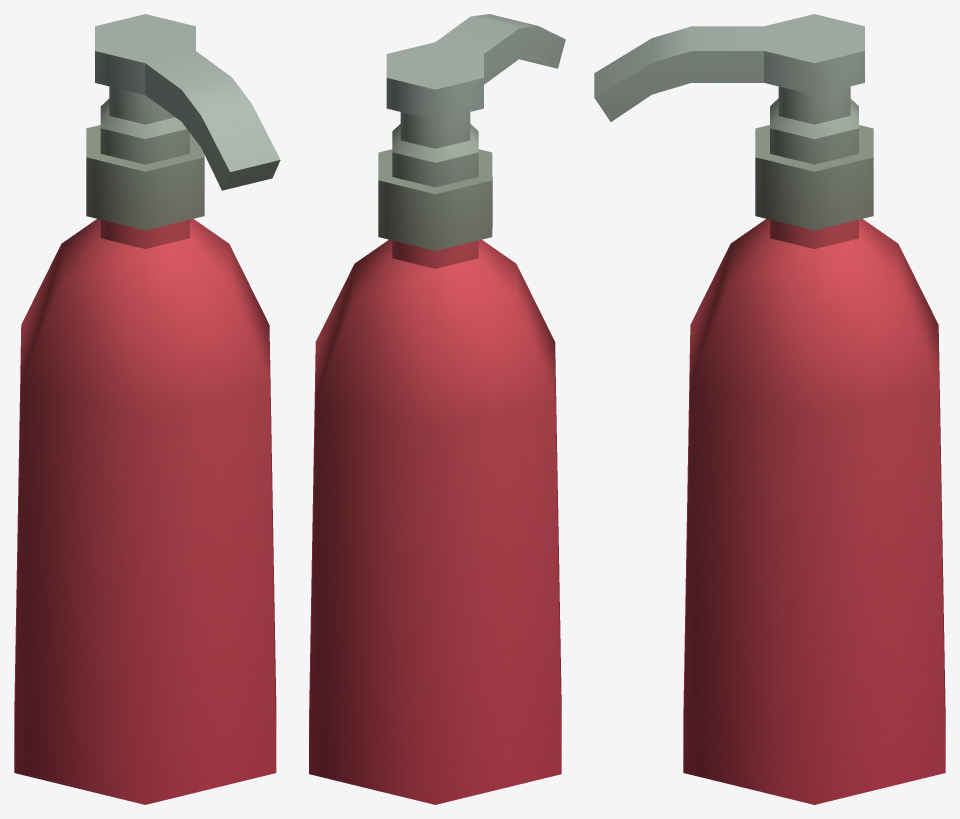
Rendered from SM_Soap_Liquid_1_05.fbx.
3 renders of one model, left to right at view 1: azimuth 30°, elevation 25°; view 2: azimuth 150°, elevation 25°; view 3: azimuth 270°, elevation 25°, orthographic. The views are drawn at different scales.
Parts seen in each view (by area): view 1: SM_Soap_Liquid_1_05; view 2: SM_Soap_Liquid_1_05; view 3: SM_Soap_Liquid_1_05.
Part boxes in pixels (x1,y1,x2,y2): SM_Soap_Liquid_1_05: (14, 14, 280, 804); SM_Soap_Liquid_1_05: (309, 14, 565, 804); SM_Soap_Liquid_1_05: (594, 14, 945, 804).
Bounding box in the file's own units: 6.82 × 17.46 × 7.91.
